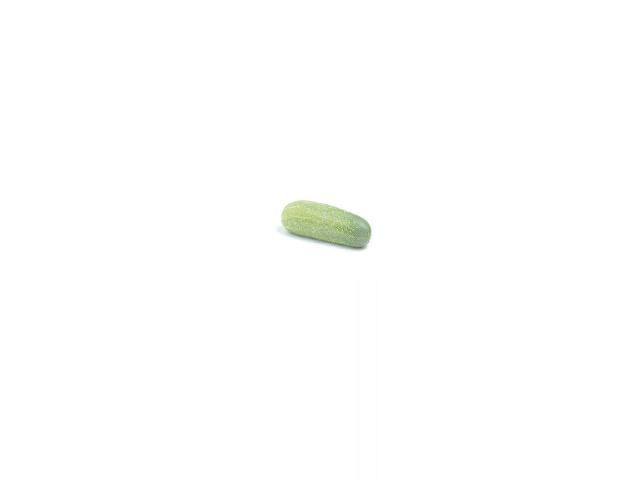cucumber: (281, 200, 371, 248)
